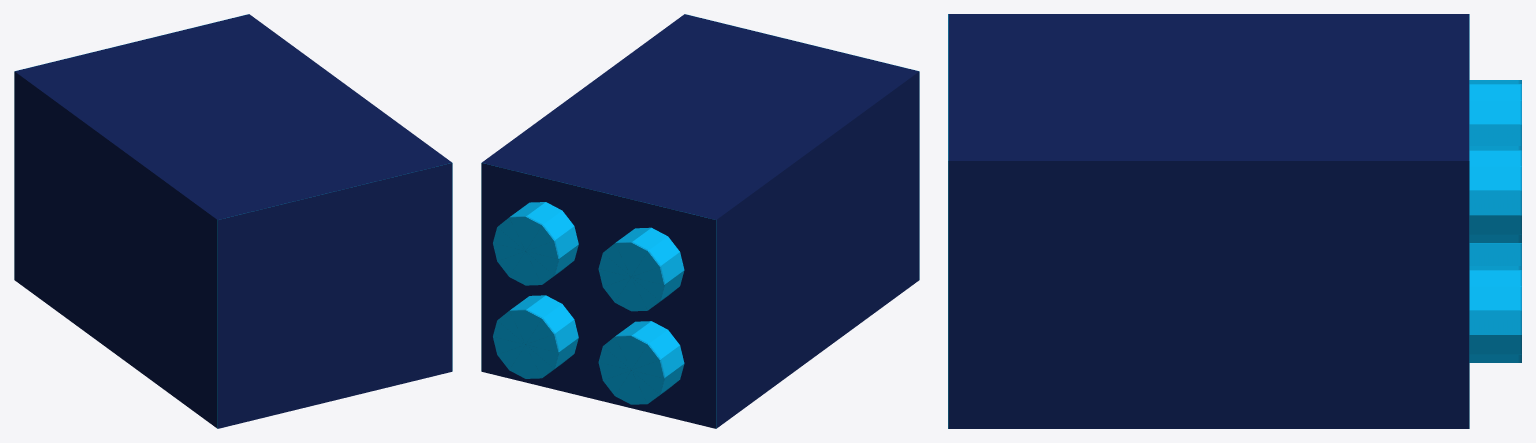
File: playerRocketLauncher.obj
3 renders of one model, left to right at view 1: azimuth 30°, elevation 25°; view 2: azimuth 150°, elevation 25°; view 3: azimuth 270°, elevation 25°, orthographic. The views are drawn at different scales.
Visible parts, largest first — view 1: playerRocketLauncher; view 2: playerRocketLauncher; view 3: playerRocketLauncher.
Boxes of the visible parts, x1=… form: playerRocketLauncher: x1=14, y1=14, x2=452, y2=428; playerRocketLauncher: x1=481, y1=14, x2=919, y2=428; playerRocketLauncher: x1=948, y1=14, x2=1521, y2=428.
Bounding box in the file's own units: 2 × 1.7 × 3.3.
2 materials, 2 textured.
